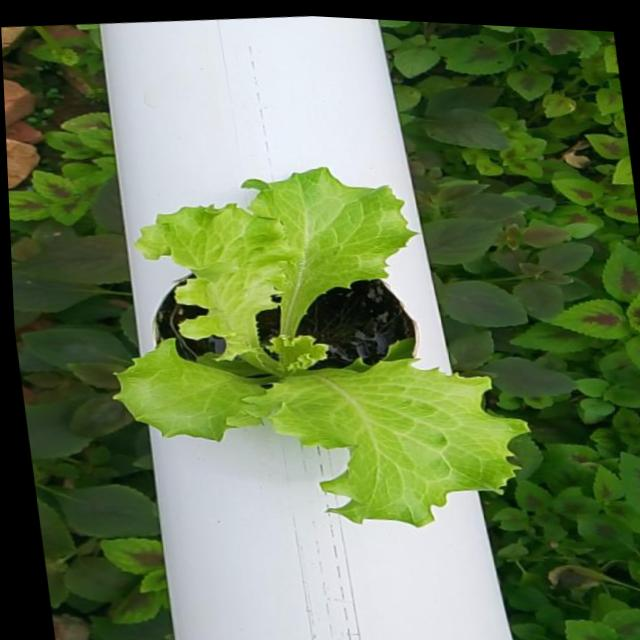Baby: (108, 168, 519, 527)
